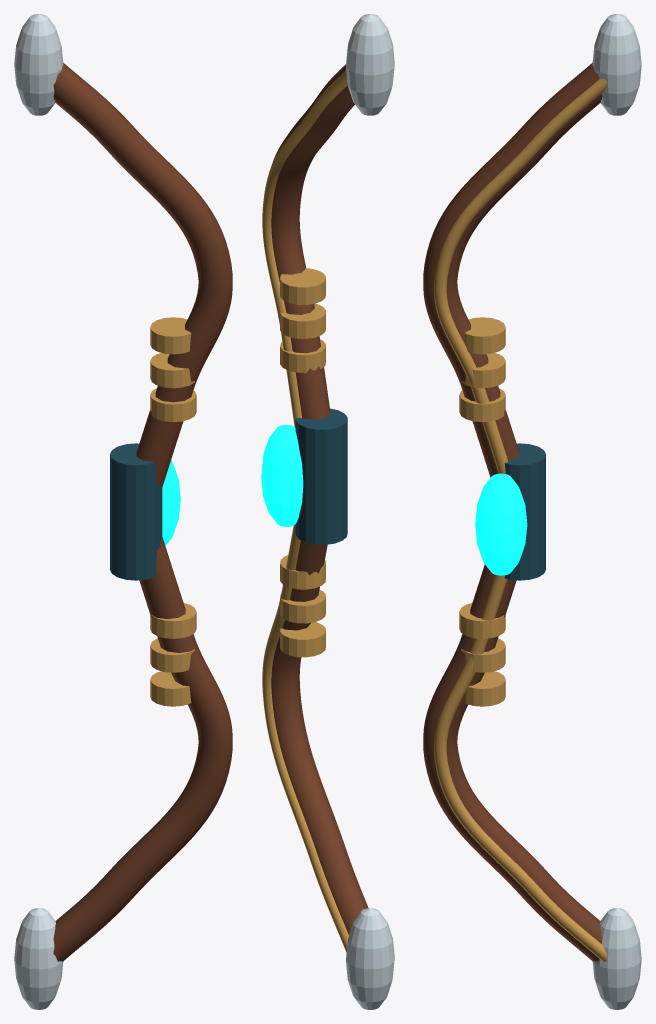
File: stormbow.glb
3 renders of one model, left to right at view 1: azimuth 90°, elevation 25°; view 2: azimuth 210°, elevation 25°; view 3: azimuth 270°, elevation 25°, orthographic.
Visible parts, largest first — view 1: Stormbow • recurved limb, Stormbow • recurved limb.001, Stormbow • grip, Stormbow • tip.001, Stormbow • tip, Stormbow • ferrule.005, Stormbow • focus, Stormbow • ferrule.002, Stormbow • ferrule, Stormbow • ferrule.004, Stormbow • ferrule.003, Stormbow • ferrule.001; view 2: Stormbow • recurved limb, Stormbow • recurved limb.001, Stormbow • grip, Stormbow • tip.001, Stormbow • tip, Stormbow • metal spine, Stormbow • focus, Stormbow • metal spine.001, Stormbow • ferrule.005, Stormbow • ferrule.002, Stormbow • ferrule.004, Stormbow • ferrule.001 (+2 smaller); view 3: Stormbow • recurved limb.001, Stormbow • recurved limb, Stormbow • metal spine.001, Stormbow • metal spine, Stormbow • focus, Stormbow • tip.001, Stormbow • tip, Stormbow • grip, Stormbow • ferrule.005, Stormbow • ferrule.002, Stormbow • ferrule, Stormbow • ferrule.003 (+2 smaller).
Boxes of the visible parts, x1=… form: Stormbow • recurved limb: x1=53, y1=537, x2=232, y2=961; Stormbow • recurved limb.001: x1=53, y1=63, x2=232, y2=490; Stormbow • grip: x1=110, y1=443, x2=162, y2=580; Stormbow • tip.001: x1=14, y1=14, x2=63, y2=115; Stormbow • tip: x1=14, y1=908, x2=63, y2=1009; Stormbow • ferrule.005: x1=150, y1=317, x2=191, y2=354; Stormbow • focus: x1=162, y1=460, x2=180, y2=545; Stormbow • ferrule.002: x1=150, y1=671, x2=191, y2=706; Stormbow • ferrule: x1=150, y1=603, x2=196, y2=638; Stormbow • ferrule.004: x1=150, y1=353, x2=194, y2=388; Stormbow • ferrule.003: x1=150, y1=388, x2=196, y2=422; Stormbow • ferrule.001: x1=150, y1=638, x2=194, y2=672; Stormbow • recurved limb: x1=271, y1=540, x2=368, y2=934; Stormbow • recurved limb.001: x1=271, y1=64, x2=354, y2=419; Stormbow • grip: x1=295, y1=408, x2=347, y2=544; Stormbow • tip.001: x1=346, y1=14, x2=394, y2=115; Stormbow • tip: x1=346, y1=908, x2=394, y2=1009; Stormbow • metal spine: x1=262, y1=524, x2=348, y2=952; Stormbow • focus: x1=261, y1=424, x2=303, y2=526; Stormbow • metal spine.001: x1=262, y1=70, x2=347, y2=427; Stormbow • ferrule.005: x1=280, y1=268, x2=325, y2=304; Stormbow • ferrule.002: x1=280, y1=622, x2=325, y2=657; Stormbow • ferrule.004: x1=280, y1=303, x2=325, y2=338; Stormbow • ferrule.001: x1=280, y1=589, x2=325, y2=623; Stormbow • recurved limb.001: x1=423, y1=63, x2=602, y2=477; Stormbow • recurved limb: x1=423, y1=564, x2=602, y2=961; Stormbow • metal spine.001: x1=434, y1=79, x2=607, y2=473; Stormbow • metal spine: x1=434, y1=575, x2=607, y2=961; Stormbow • focus: x1=475, y1=473, x2=527, y2=575; Stormbow • tip.001: x1=592, y1=14, x2=641, y2=115; Stormbow • tip: x1=592, y1=908, x2=641, y2=1009; Stormbow • grip: x1=504, y1=443, x2=545, y2=580; Stormbow • ferrule.005: x1=464, y1=317, x2=505, y2=354; Stormbow • ferrule.002: x1=464, y1=671, x2=505, y2=706; Stormbow • ferrule: x1=459, y1=603, x2=505, y2=638; Stormbow • ferrule.003: x1=459, y1=388, x2=505, y2=422.
Size of the model in its own units: 0.109 by 1.47 by 0.2924.
